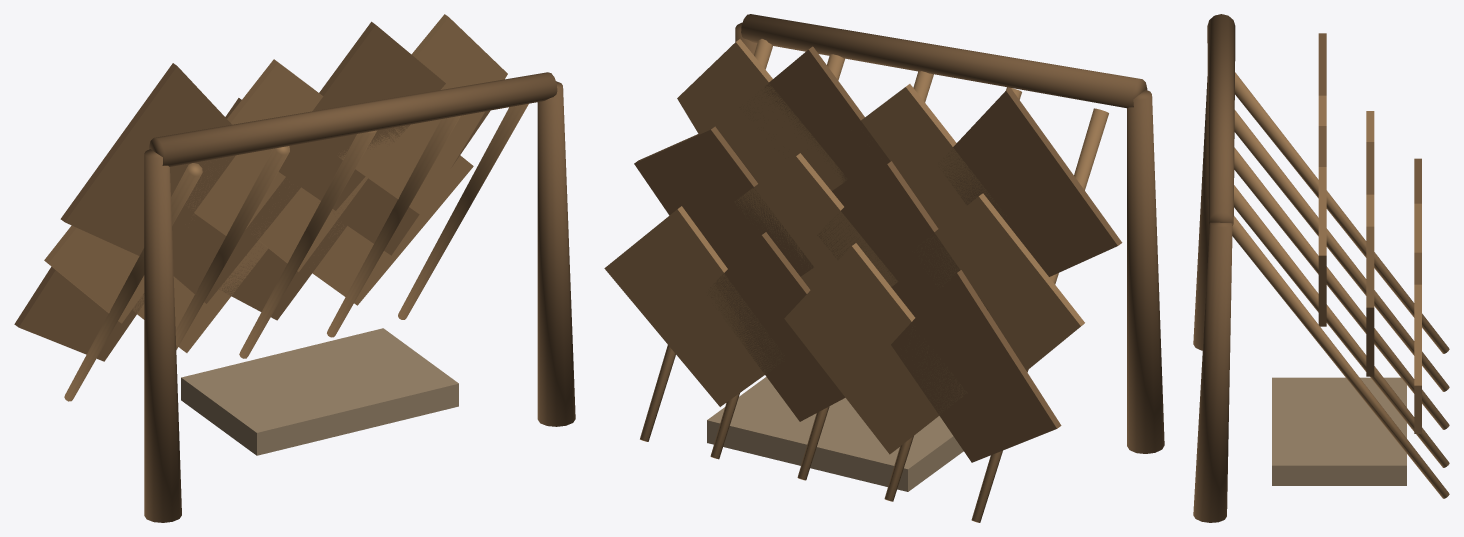
File: lean_to_shelter.glb
3 views of the same model, side by side, from view 1: azimuth 30°, elevation 25°; view 2: azimuth 150°, elevation 25°; view 3: azimuth 270°, elevation 25° (orthographic). The views are drawn at different scales.
Parts seen in each view (by area): view 1: lean_bed, lean_cover_0_0, lean_ridge, post_left, post_right, lean_cover_0_2, lean_cover_0_3, lean_cover_0_1, lean_cover_2_0, lean_cover_1_1, lean_cover_1_0, lean_cover_2_3 (+9 smaller); view 2: lean_cover_2_0, lean_cover_2_3, lean_cover_2_1, lean_cover_0_0, lean_bed, lean_ridge, lean_cover_1_0, post_left, lean_cover_1_3, lean_cover_2_2, lean_cover_0_3, lean_cover_1_1 (+8 smaller); view 3: lean_bed, post_right, lean_ridge, lean_rafter_4, lean_rafter_3, lean_rafter_2, lean_rafter_1, lean_rafter_0, post_left, lean_cover_0_3, lean_cover_1_3, lean_cover_2_3 (+5 smaller).
Part boxes in pixels (x1,y1,x2,y2): lean_bed: (181, 328, 458, 455); lean_cover_0_0: (60, 63, 235, 255); lean_ridge: (149, 72, 557, 166); post_left: (144, 149, 181, 522); post_right: (537, 81, 575, 426); lean_cover_0_2: (278, 21, 445, 210); lean_cover_0_3: (338, 14, 507, 215); lean_cover_0_1: (186, 59, 323, 235); lean_cover_2_0: (14, 267, 144, 361); lean_cover_1_1: (172, 98, 300, 303); lean_cover_1_0: (44, 214, 193, 323); lean_cover_2_3: (312, 155, 473, 305); lean_cover_2_0: (891, 270, 1061, 462); lean_cover_2_3: (604, 206, 784, 406); lean_cover_2_1: (784, 243, 967, 454); lean_cover_0_0: (939, 87, 1122, 276); lean_bed: (707, 377, 963, 491); lean_ridge: (741, 14, 1147, 108); lean_cover_1_0: (921, 193, 1084, 370); post_left: (1127, 90, 1164, 453); lean_cover_1_3: (634, 126, 813, 276); lean_cover_2_2: (707, 232, 845, 421); lean_cover_0_3: (677, 39, 846, 190); lean_cover_1_1: (817, 161, 988, 317); lean_bed: (1272, 377, 1406, 485); post_right: (1193, 222, 1232, 522); lean_ridge: (1207, 14, 1235, 225); lean_rafter_4: (1232, 216, 1449, 498); lean_rafter_3: (1234, 185, 1449, 467); lean_rafter_2: (1234, 147, 1449, 429); lean_rafter_1: (1234, 110, 1449, 391); lean_rafter_0: (1235, 72, 1449, 353); post_left: (1193, 76, 1209, 350); lean_cover_0_3: (1318, 167, 1326, 326); lean_cover_1_3: (1366, 226, 1374, 376); lean_cover_2_3: (1414, 284, 1421, 433).
Bounding box in the file's own units: 2.27 × 1.82 × 1.22.
